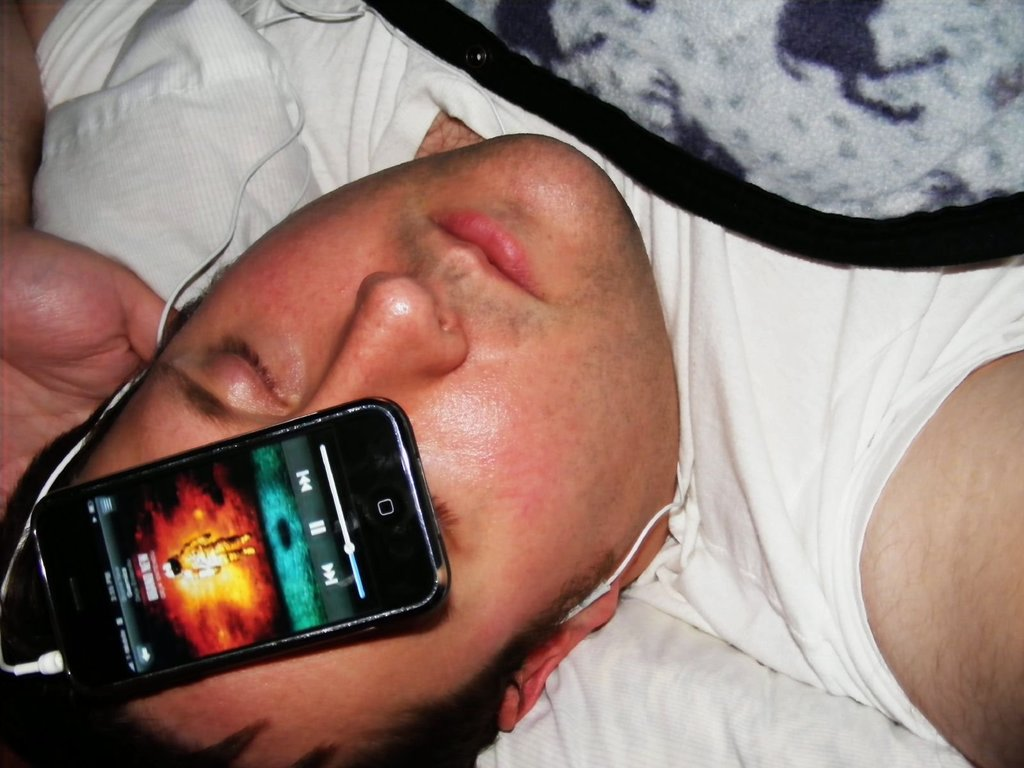Mobile-phone: (29, 394, 454, 699)
